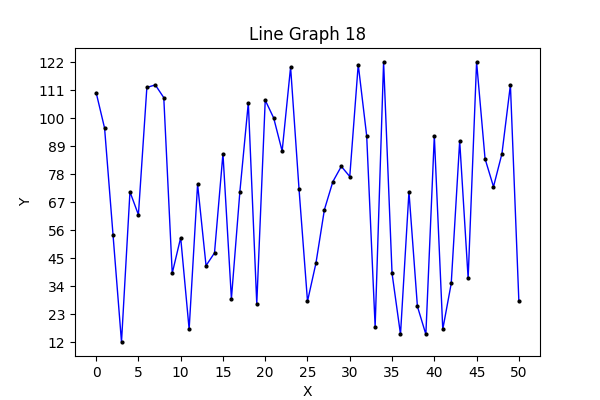cvs: (75, 48, 540, 356)
